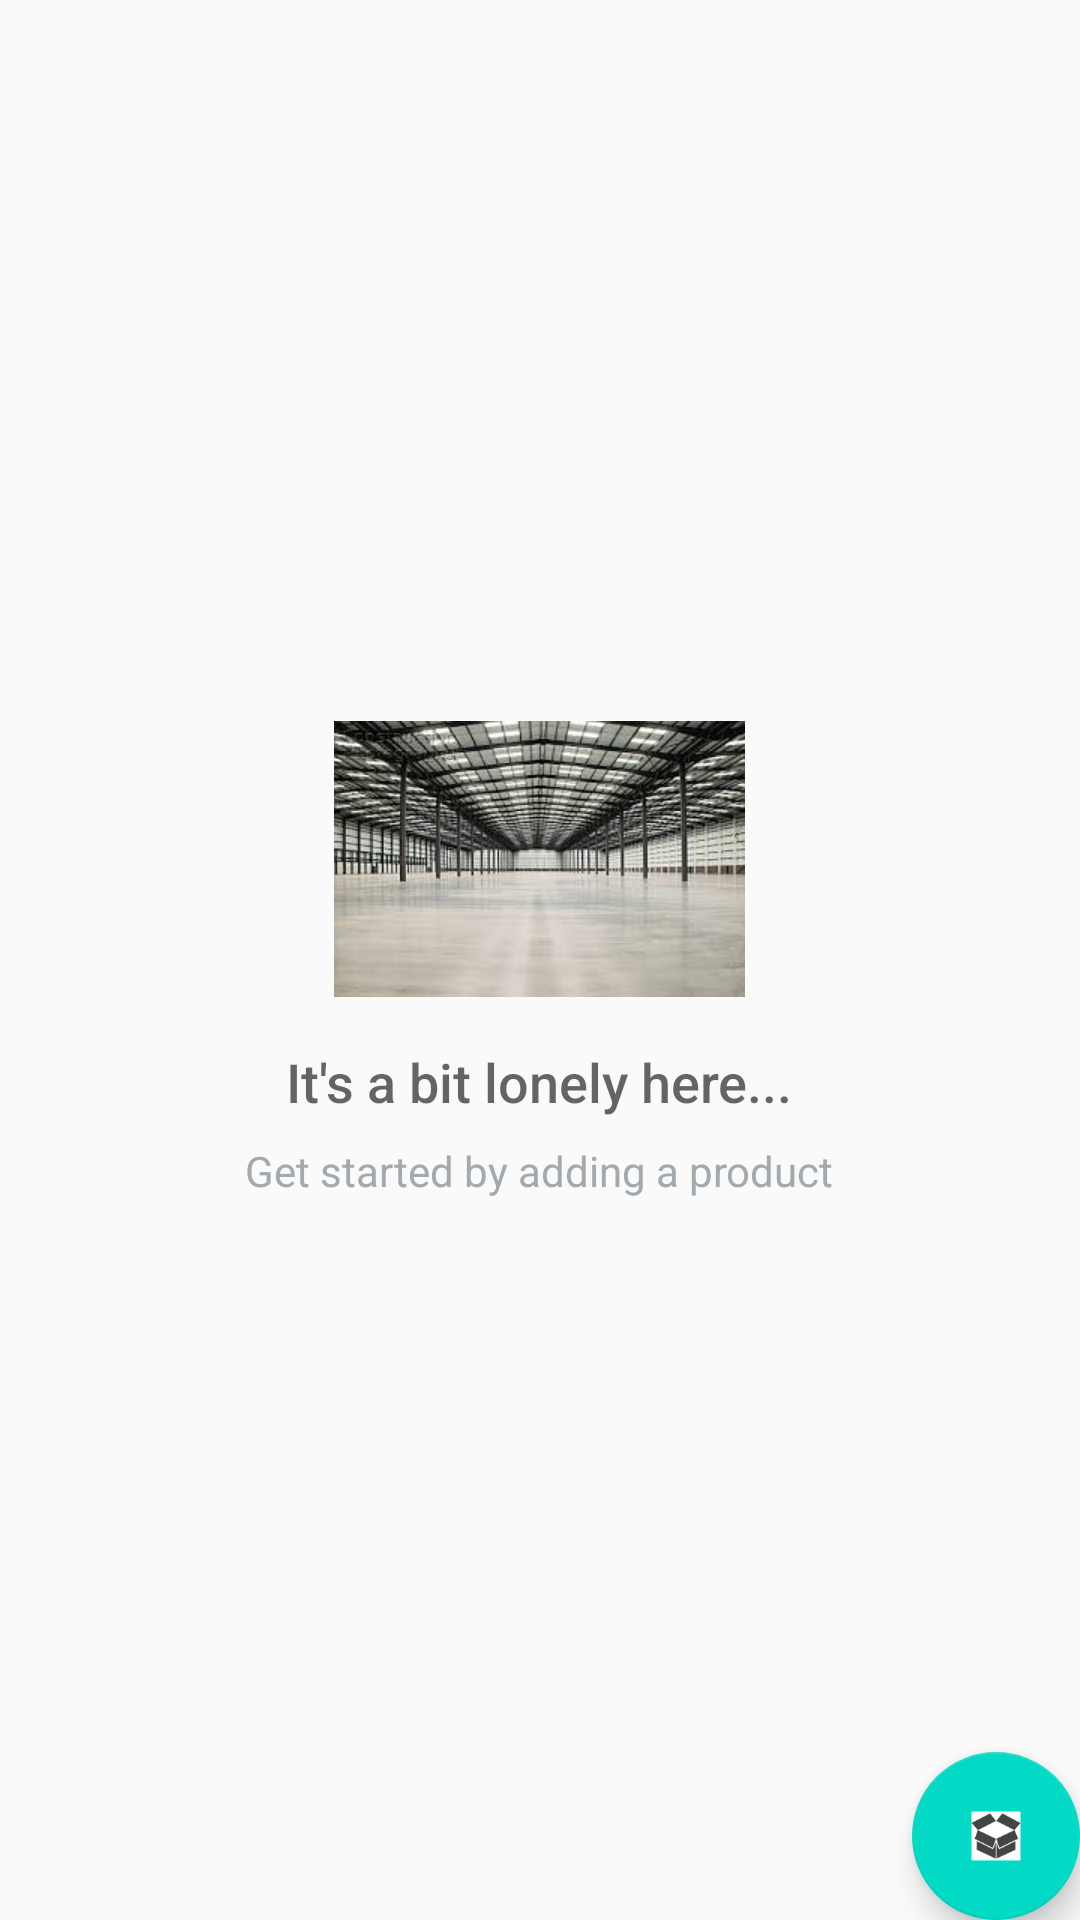

Icon bounding boxes for this 1080px×1920px phone screenshot, format (x1,y1,x2,y2):
product: (912,1752,1080,1920)
